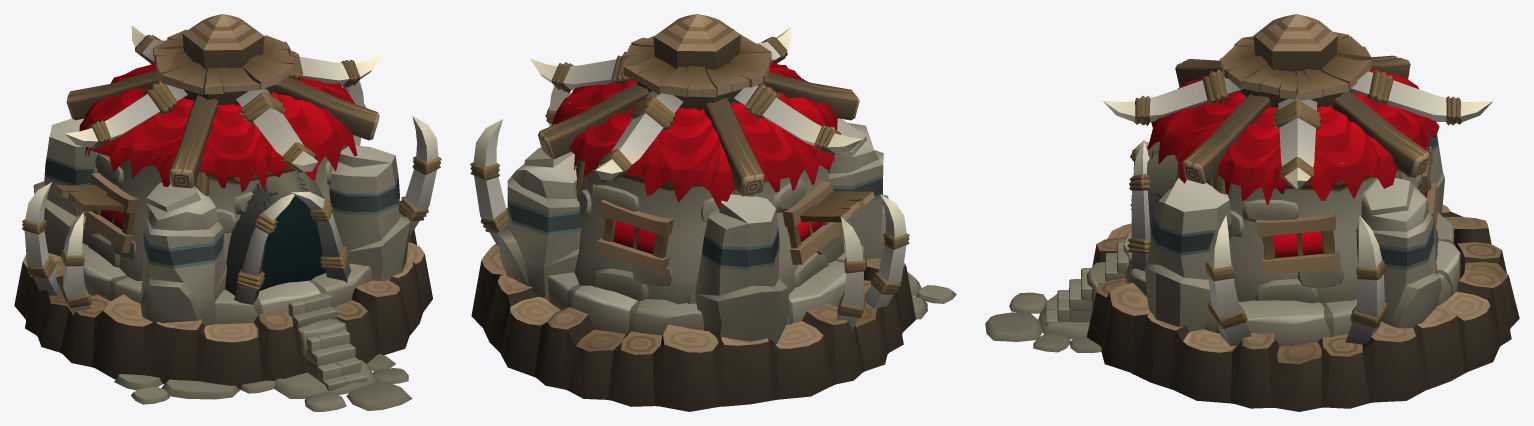
The model's file is RTS_orc_Lv2_sketchfab.fbx.
The picture shows the model from 3 angles, left to right: view 1: azimuth 30°, elevation 25°; view 2: azimuth 150°, elevation 25°; view 3: azimuth 270°, elevation 25°; orthographic projection. The views are drawn at different scales.
Visible parts, largest first — view 1: orc_hut_Lv2; view 2: orc_hut_Lv2; view 3: orc_hut_Lv2.
Part boxes in pixels (x1=…): orc_hut_Lv2: x1=14, y1=14, x2=441, y2=411; orc_hut_Lv2: x1=470, y1=14, x2=956, y2=411; orc_hut_Lv2: x1=985, y1=14, x2=1519, y2=411.
Bounding box in the file's own units: 9.31 × 7.07 × 11.26.
